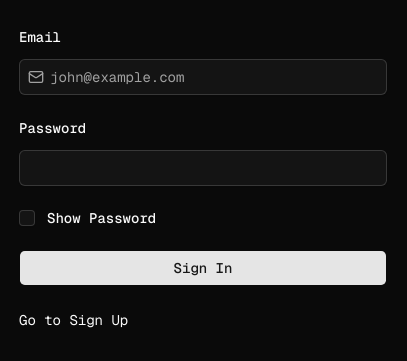
Test: SignInForm › rejects an empty password
Type "ada@example.com" into the field labelled "Email" at (215, 77), box [44,59,386,95]
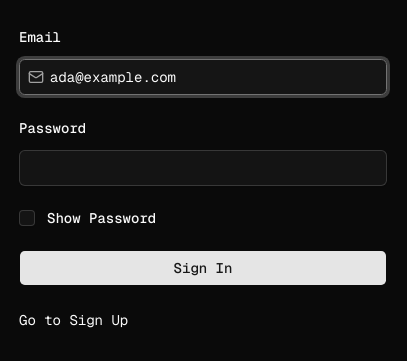
Click the button "Sign In" at (203, 268), box [19,250,387,286]
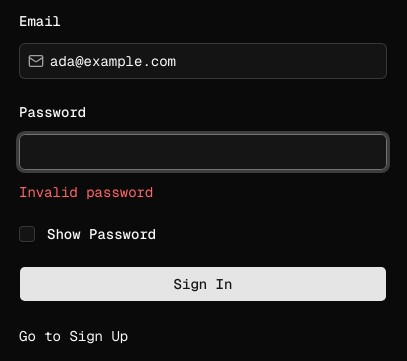
Check: the text "Invalid password" is shown, box [19,183,153,201]
